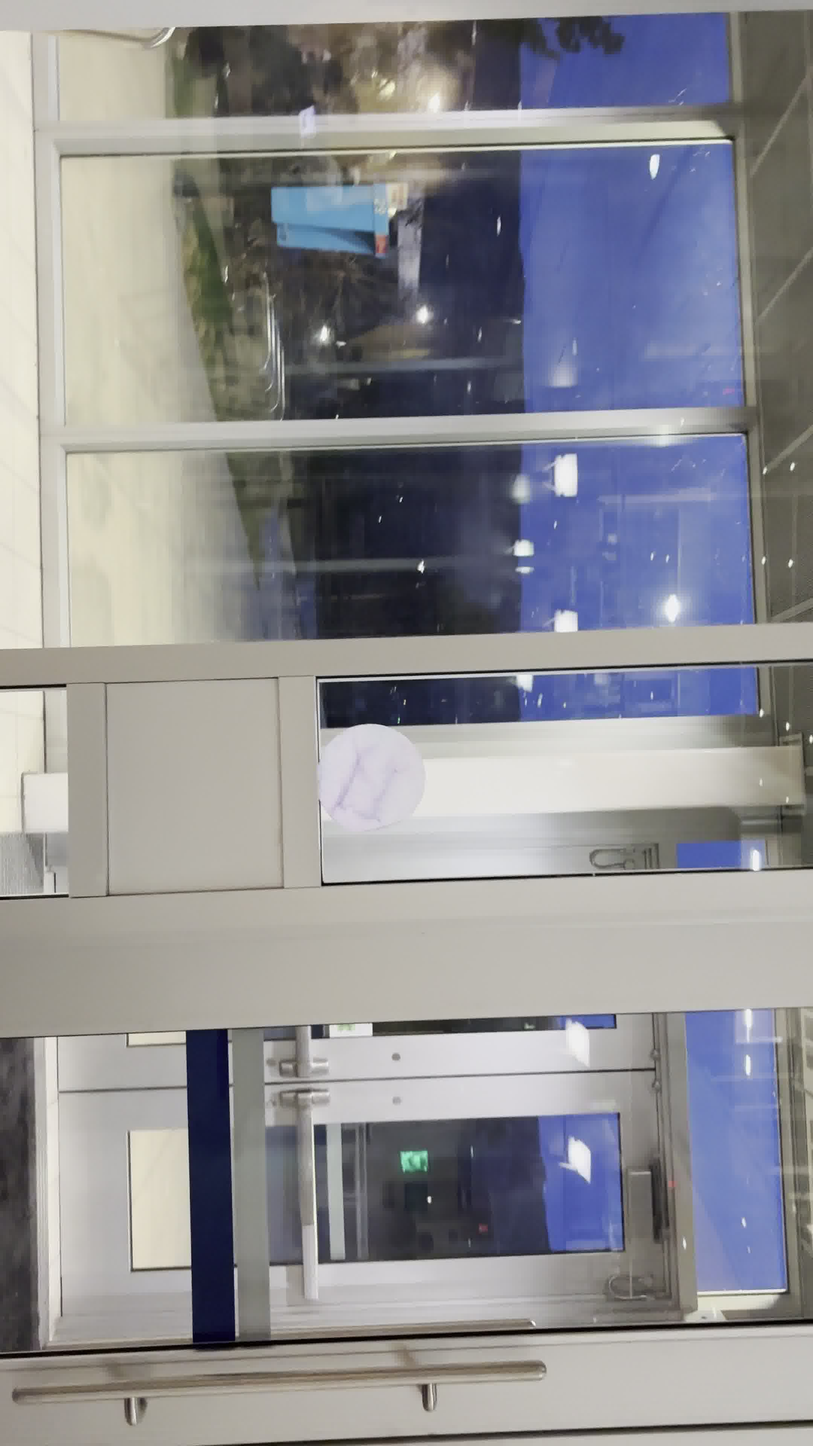Target: (315, 722, 428, 834)
